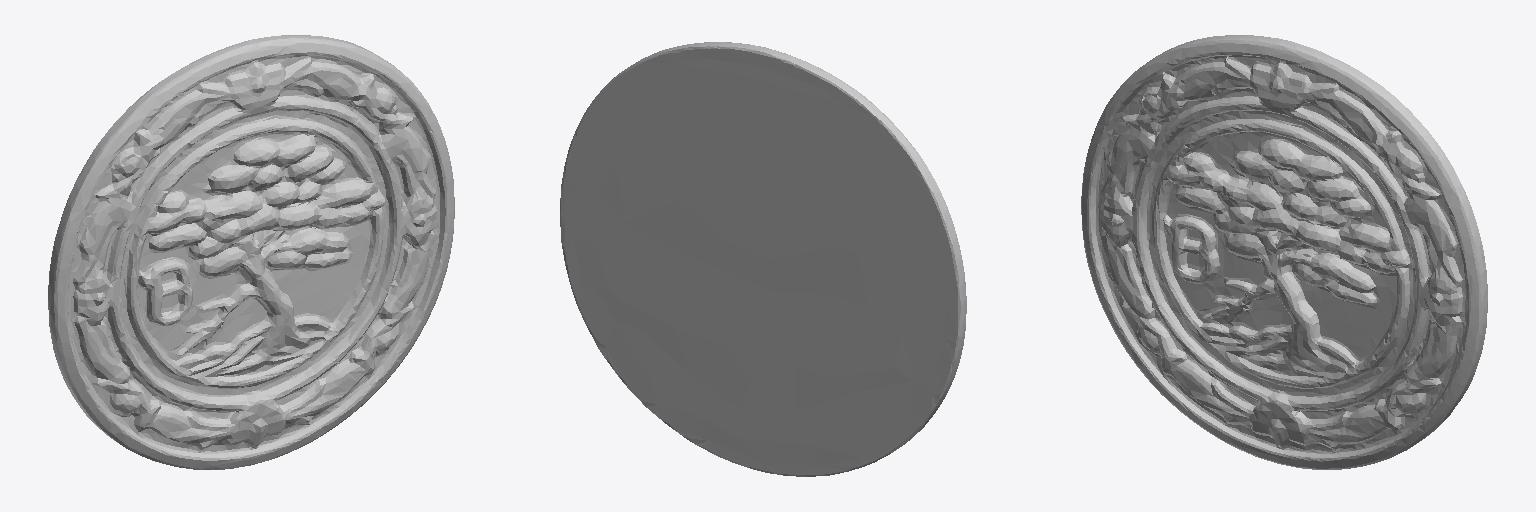
The model's file is coin.obj.
The picture shows the model from 3 angles: view 1: azimuth 30°, elevation 25°; view 2: azimuth 150°, elevation 25°; view 3: azimuth 330°, elevation 25°; orthographic projection.
Bounding box in the file's own units: 1.93 × 1.93 × 0.1393.